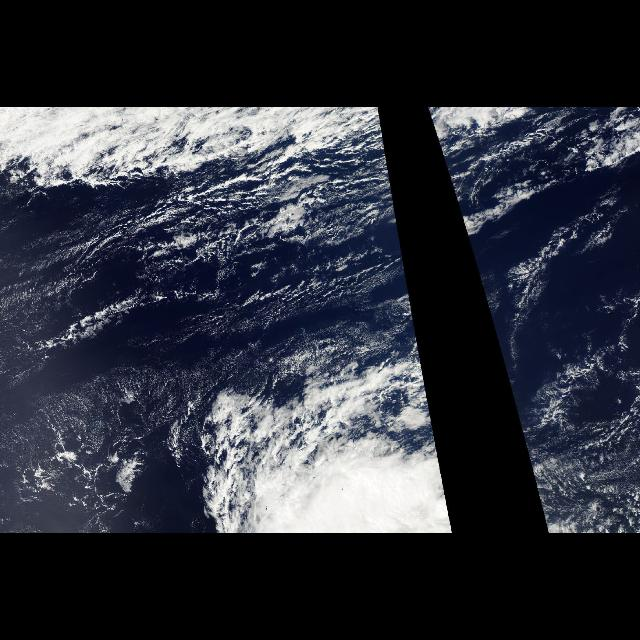Sugar: (2, 203, 410, 529)
